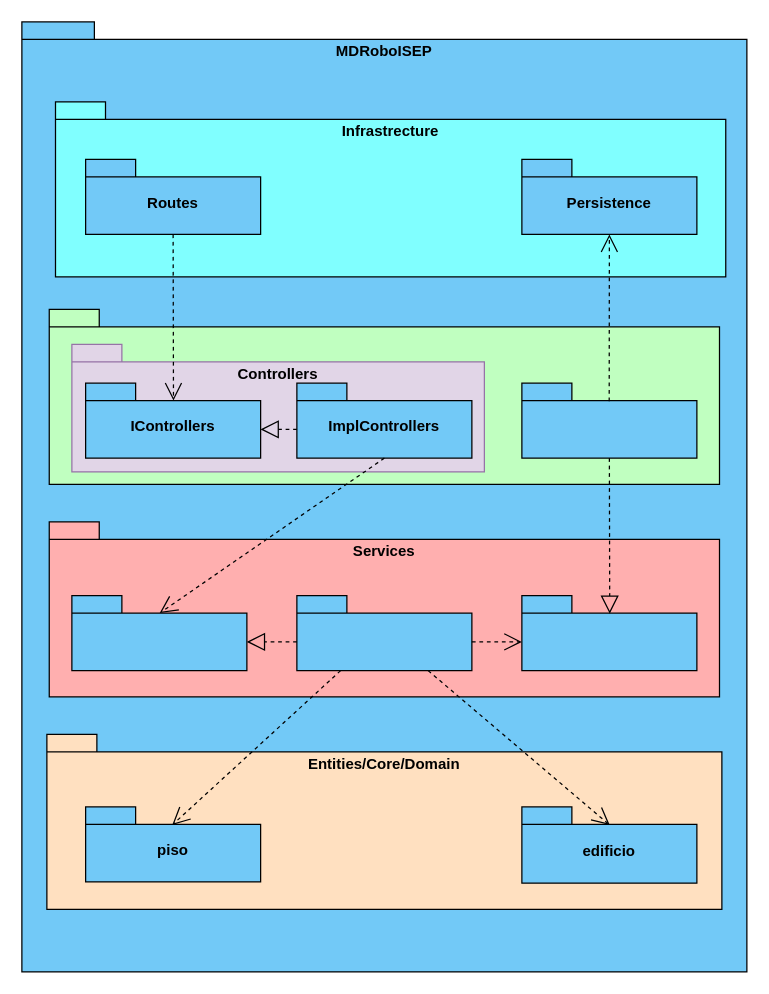
This 769x994 diagram has some shape labels left out. Here are the shapes that lost their labels. From the top down, the box of each, then its label:
(48, 308, 720, 484): Interface Adapters
(521, 382, 697, 458): Repos
(71, 594, 247, 671): IServices
(296, 594, 472, 671): ImplServices
(521, 594, 697, 671): IRepos
